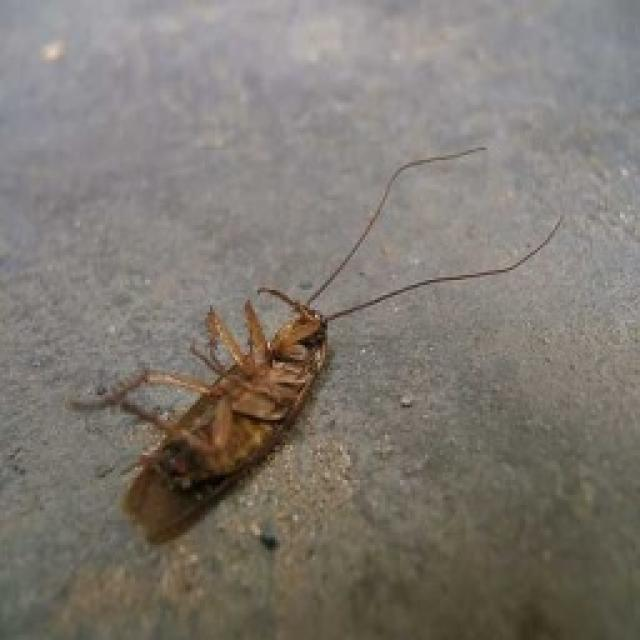cockroach: (69, 248, 384, 549)
